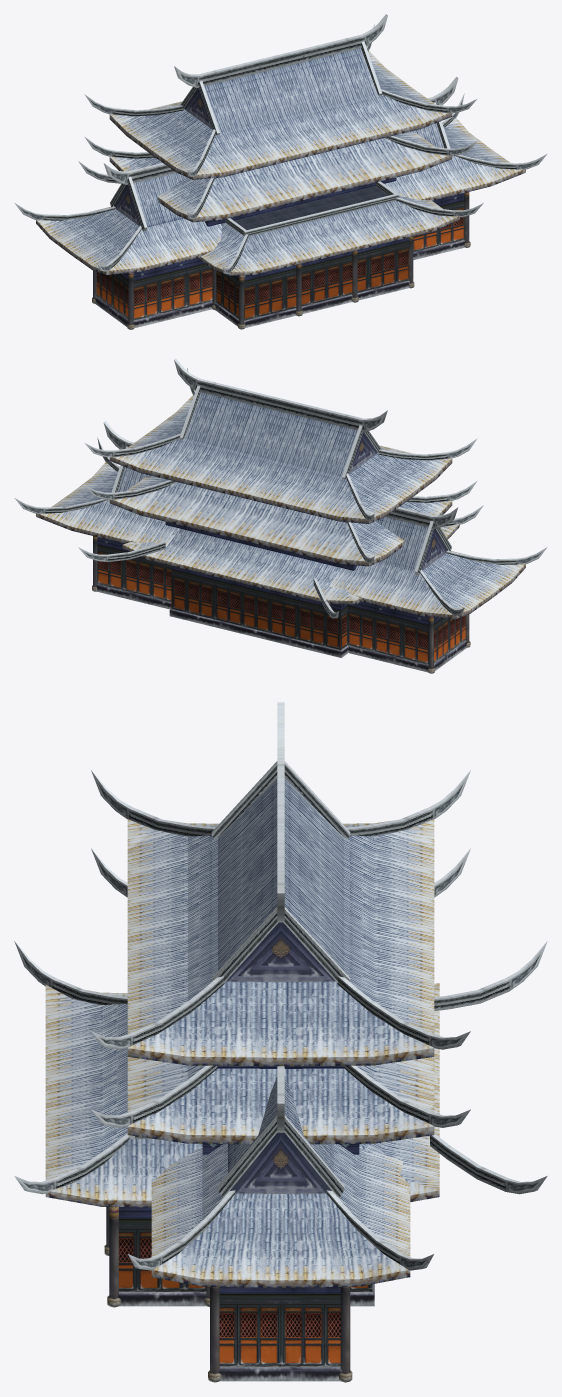
File: jz_tianjifeng_01.FBX
3 renders of one model, top to bottom at view 1: azimuth 30°, elevation 25°; view 2: azimuth 150°, elevation 25°; view 3: azimuth 270°, elevation 25°, orthographic. The views are drawn at different scales.
Parts seen in each view (by area): view 1: jz_tianjifeng_01; view 2: jz_tianjifeng_01; view 3: jz_tianjifeng_01.
Boxes of the visible parts, x1,y1,x2,y2 form: jz_tianjifeng_01: [14, 14, 546, 329]; jz_tianjifeng_01: [14, 358, 547, 673]; jz_tianjifeng_01: [14, 702, 547, 1382].
Size of the model in its own units: 4907 by 2433 by 2731.
